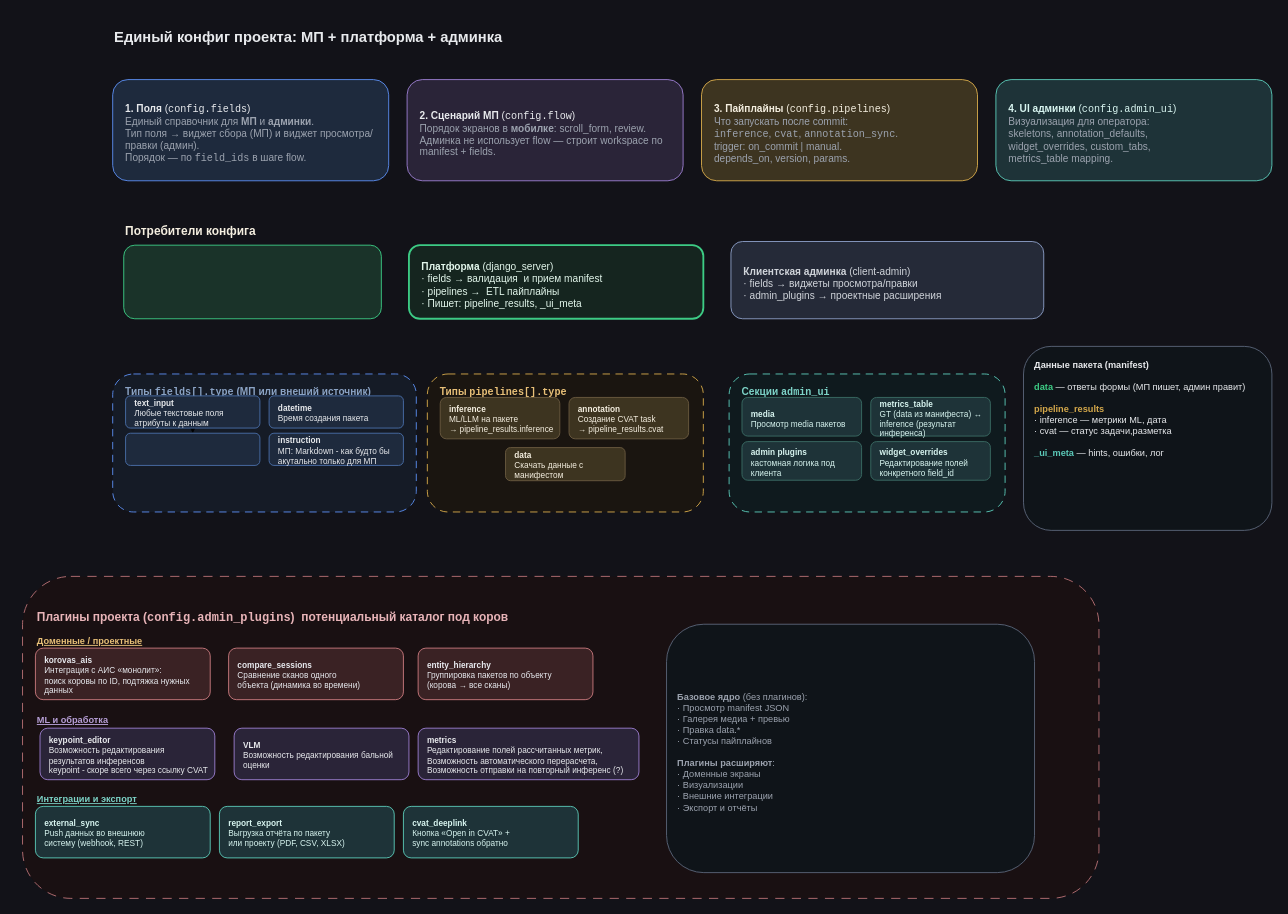
Image size: 1288x914. Some labels were removed from this diagram. Each missing label, with the centre of its shape:
camera_photo Медиа файл: point 192,448
МП (Flutter) · fields + flow → экраны сбора · Только запись: data + blobs: point 252,281
